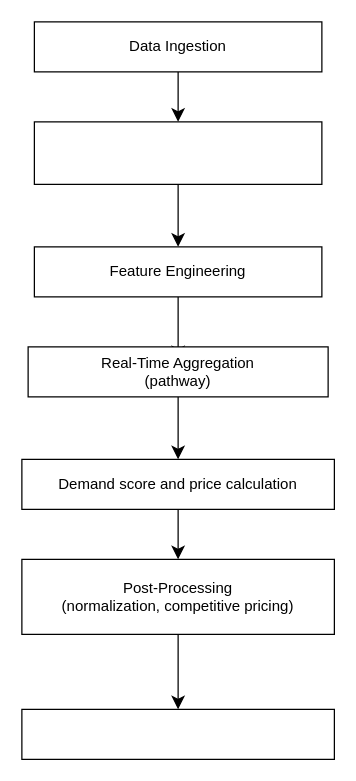
This 356x781 diagram has some shape labels left out. The box of each missing label's shape, as (x1, y1, x2, y2) in pixels:
Pre-Processing: (33, 121, 322, 184)
visualization: (21, 708, 334, 759)
